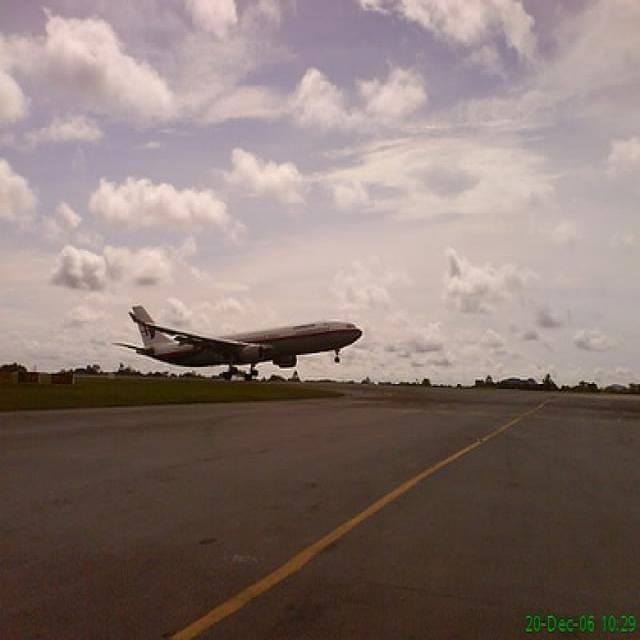aeroplane: (118, 300, 361, 384)
